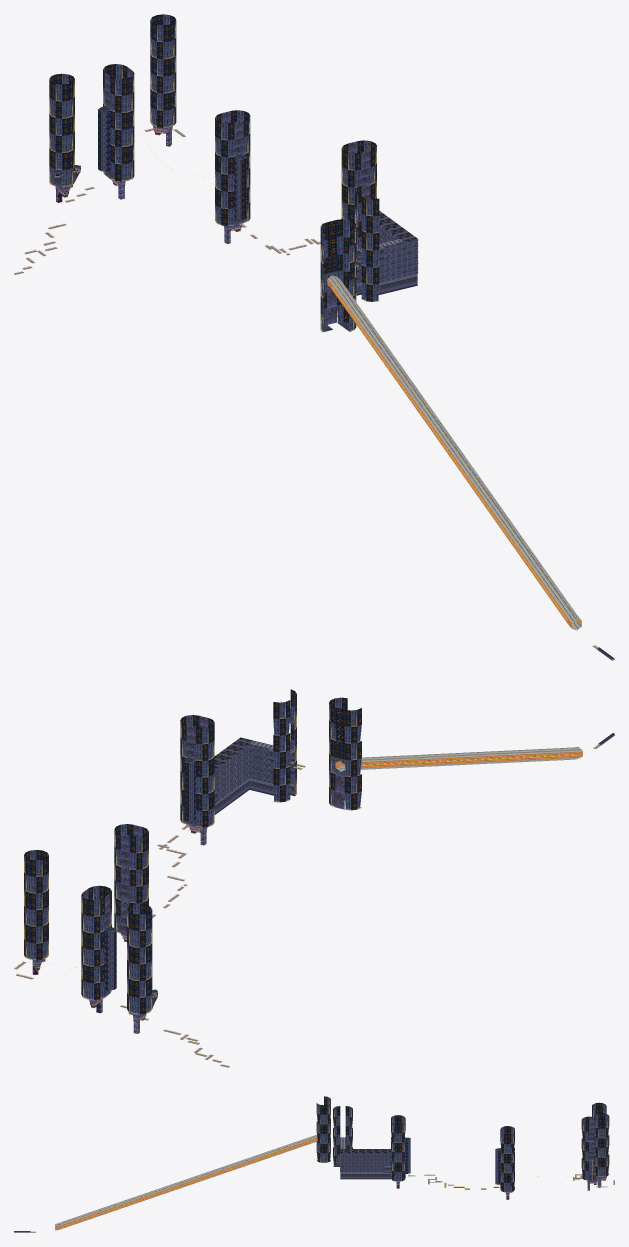
The model's file is CosmicWall.obj.
3 renders of one model, top to bottom at view 1: azimuth 30°, elevation 25°; view 2: azimuth 150°, elevation 25°; view 3: azimuth 270°, elevation 25°, orthographic. The views are drawn at different scales.
Bounding box in the file's own units: 7298 × 8260 × 32950.
Materials: 45 (45 with a texture image).
